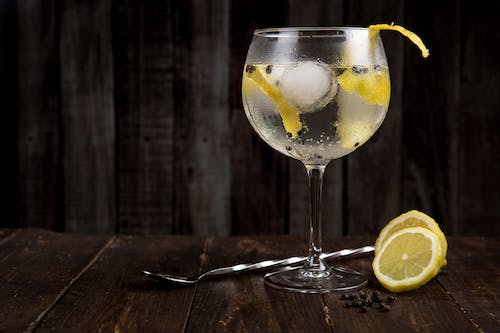alcohol: (241, 26, 392, 295)
